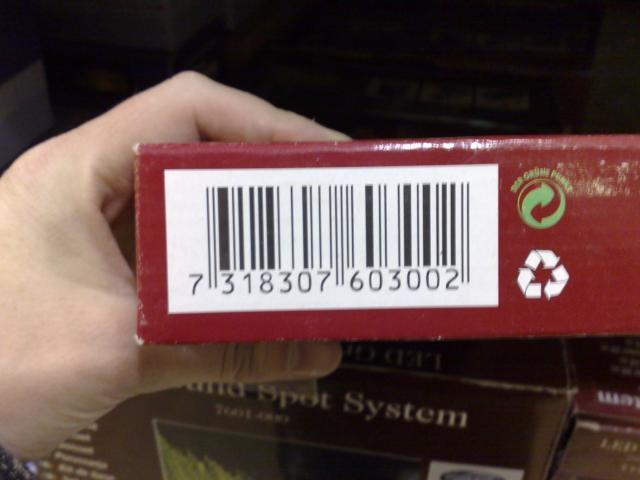Barcode: (182, 180, 473, 308)
